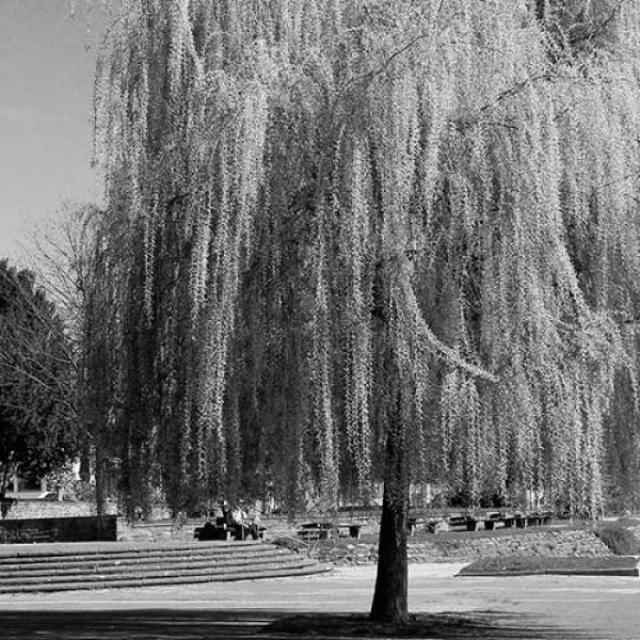cauce: (113, 0, 640, 632)
